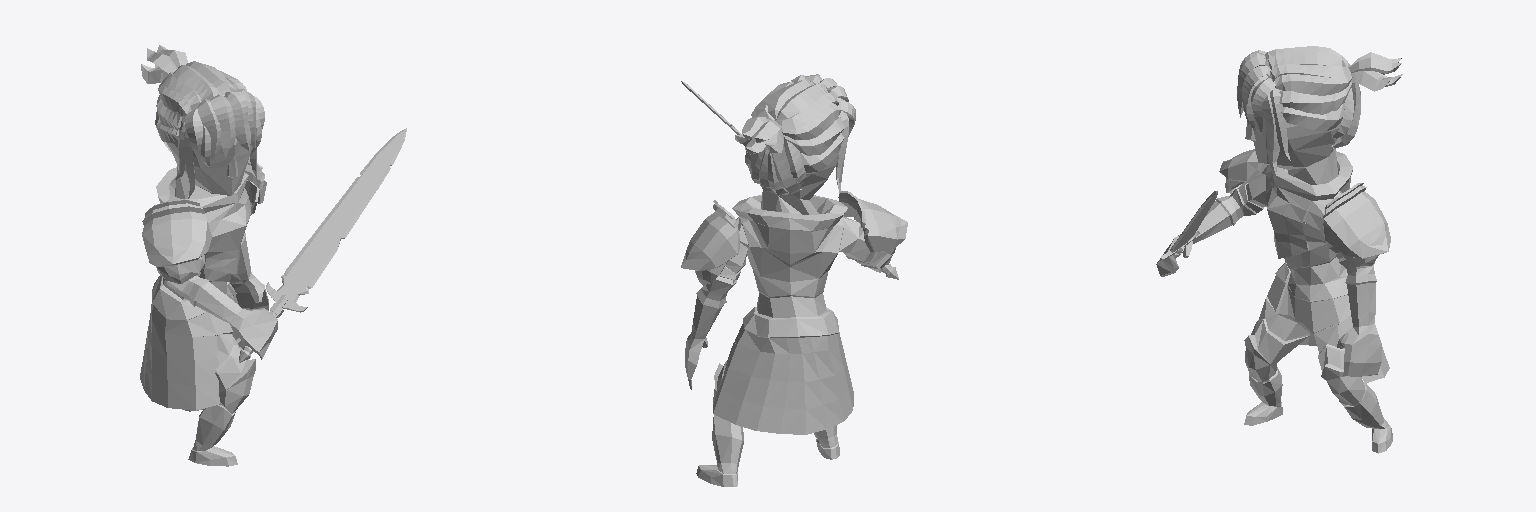
3 renders of one model, left to right at view 1: azimuth 30°, elevation 25°; view 2: azimuth 150°, elevation 25°; view 3: azimuth 270°, elevation 25°, orthographic.
Parts seen in each view (by area): view 1: Warrior.002__ncl1_29.005, Face__ncl1_29.002, Warrior_Sword_Cylinder.001, Shoulder.R__ncl1_29.001, Shoulder.L__ncl1_29.000; view 2: Warrior.002__ncl1_29.005, Face__ncl1_29.002, Shoulder.L__ncl1_29.000, Shoulder.R__ncl1_29.001; view 3: Warrior.002__ncl1_29.005, Face__ncl1_29.002, Shoulder.L__ncl1_29.000, Shoulder.R__ncl1_29.001, Warrior_Sword_Cylinder.001.
Boxes of the visible parts, box(x1,y1,x2,y2) form: Warrior.002__ncl1_29.005: box(140, 138, 277, 466); Face__ncl1_29.002: box(141, 45, 264, 198); Warrior_Sword_Cylinder.001: box(239, 128, 406, 362); Shoulder.R__ncl1_29.001: box(142, 199, 211, 283); Shoulder.L__ncl1_29.000: box(245, 157, 266, 215); Warrior.002__ncl1_29.005: box(685, 151, 892, 486); Face__ncl1_29.002: box(735, 74, 855, 195); Shoulder.L__ncl1_29.000: box(681, 200, 739, 285); Shoulder.R__ncl1_29.001: box(838, 191, 907, 254); Warrior.002__ncl1_29.005: box(1156, 110, 1392, 453); Face__ncl1_29.002: box(1237, 46, 1402, 174); Shoulder.L__ncl1_29.000: box(1323, 183, 1390, 266); Shoulder.R__ncl1_29.001: box(1219, 149, 1266, 193); Warrior_Sword_Cylinder.001: box(1161, 191, 1217, 259).
Size of the model in its own units: 1.87 by 2.8 by 1.68.